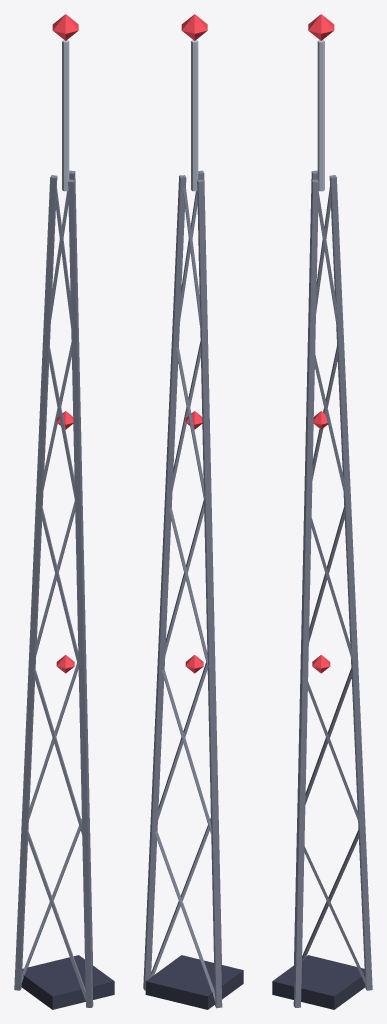
The model's file is antenna_mast.obj.
3 views of the same model, side by side, from view 1: azimuth 30°, elevation 25°; view 2: azimuth 150°, elevation 25°; view 3: azimuth 330°, elevation 25° (orthographic).
Size of the model in its own units: 3.05 by 36.03 by 2.94.
